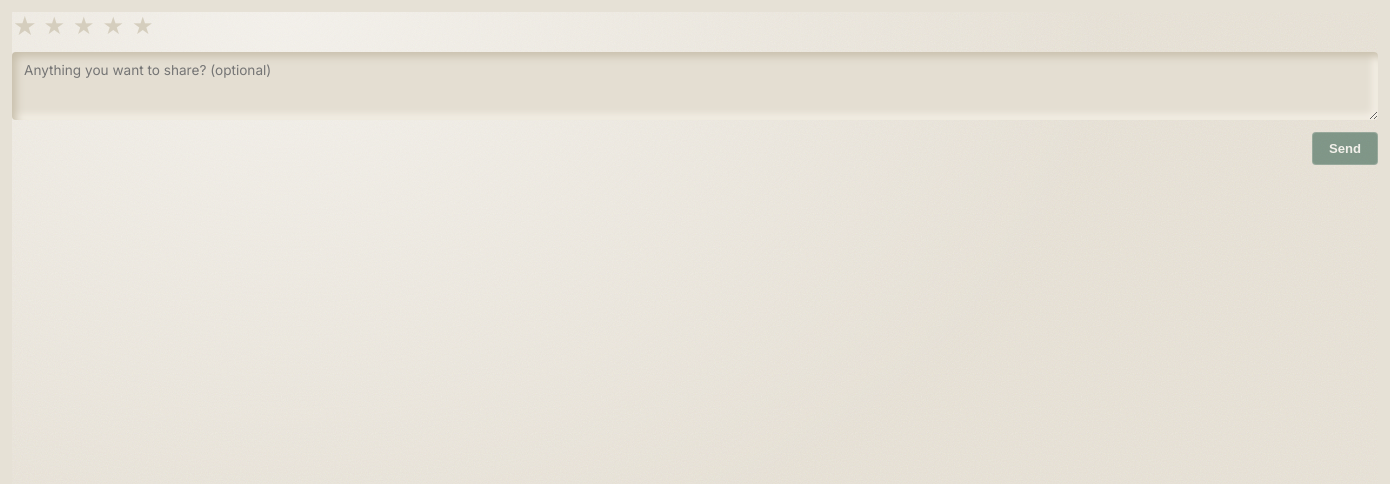
Test: clicking the active star again clears the rating
The image size is (1390, 484).
Step 1. Click the button named "3 stars" → (84, 26), box [71,12,96,40]
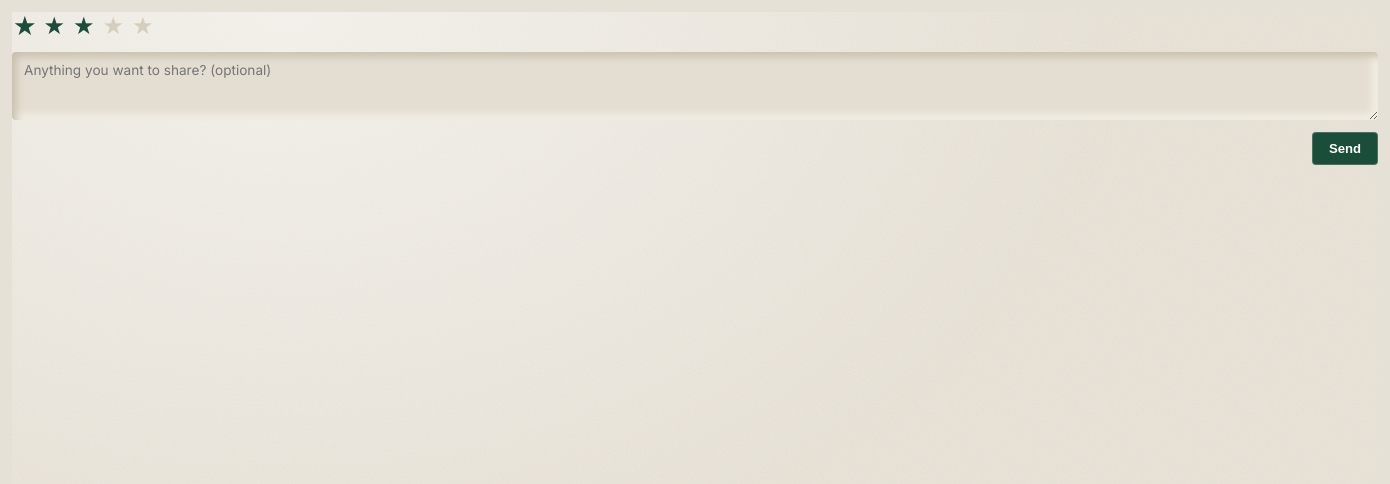
Step 2. Click the button named "3 stars" → (84, 26), box [71,12,96,40]
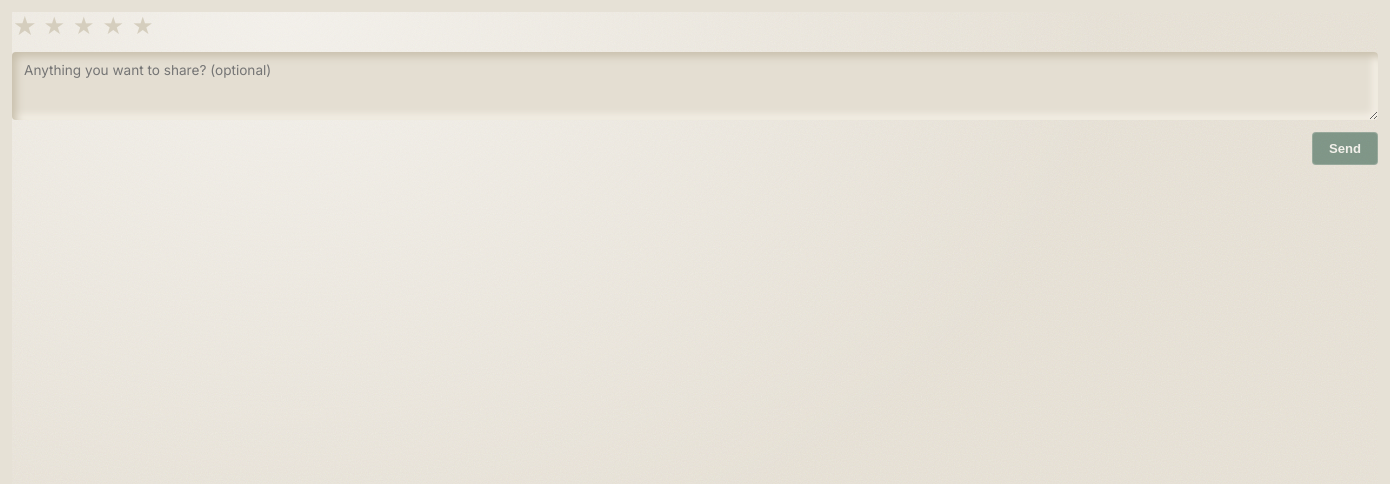
Check: the button "Send" is disabled, box [1312,132,1378,165]
